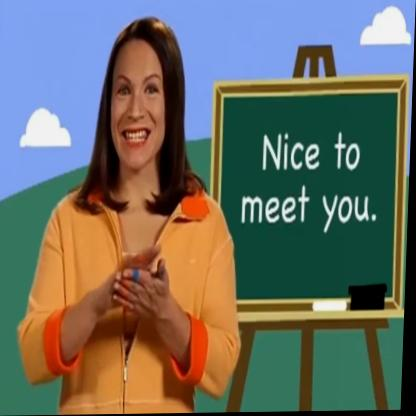NiceToMeetYou: (90, 224, 181, 335)
